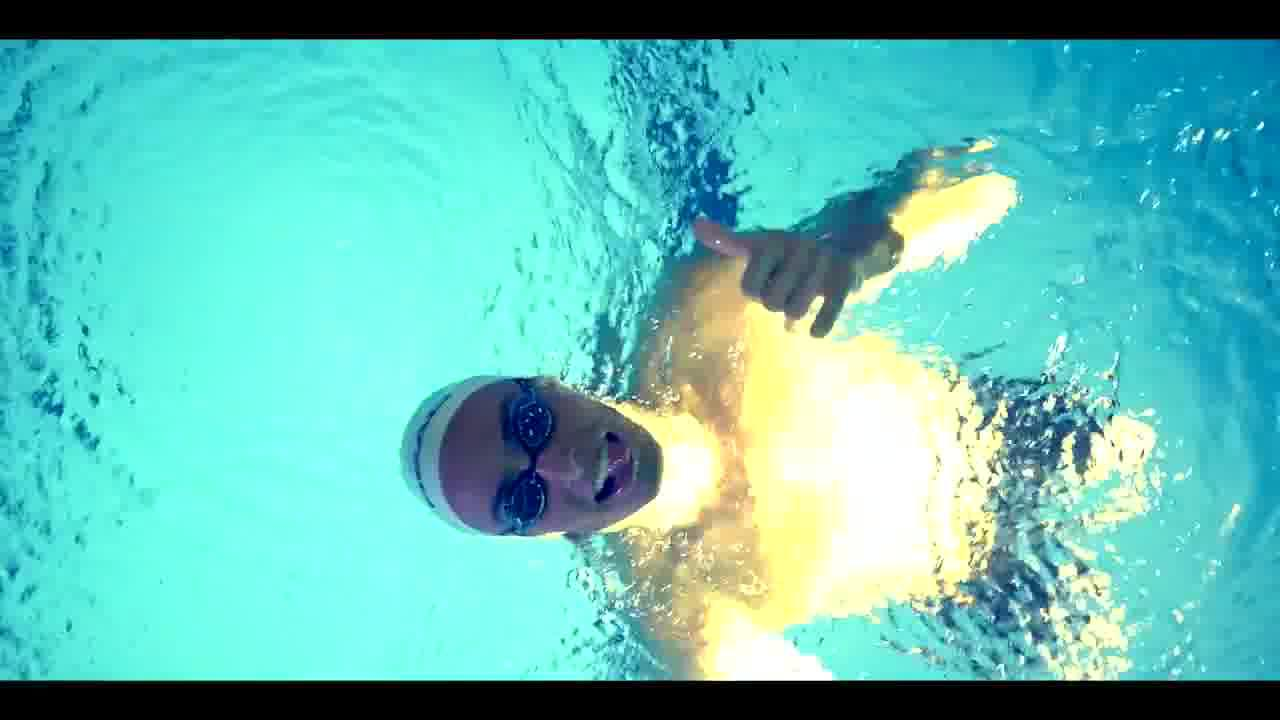human: (378, 175, 1201, 674)
